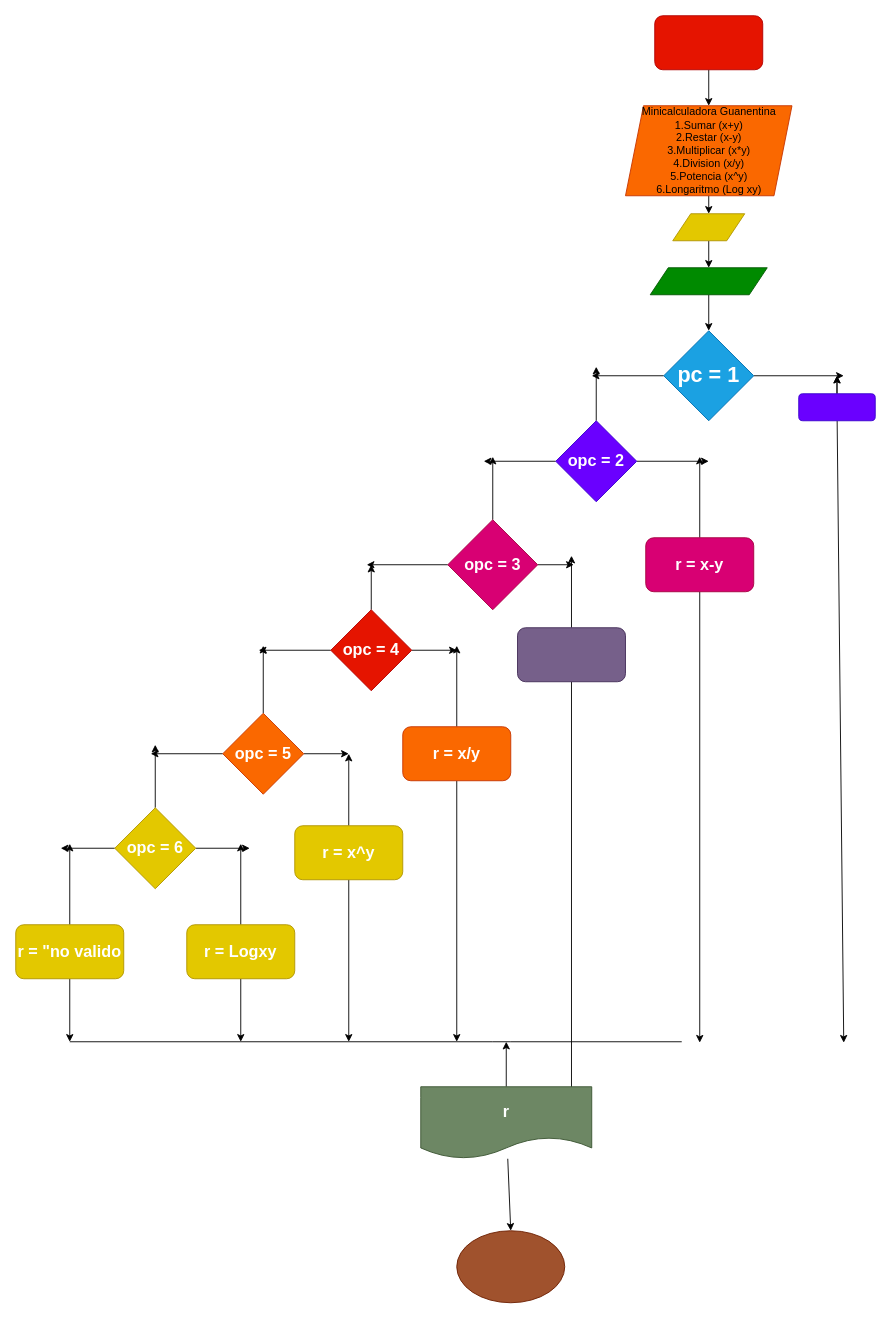
The diagram is 891 pixels wide and 1319 high, and some of its shapes have lost their labels. Here are the shapes that lost their labels. From the top down, the centre of each, then its label:
point (708, 42): INICIO
point (708, 227): x,y
point (708, 281): opc
point (836, 407): r = x+y
point (571, 654): r = x*y
point (510, 1266): FIN
